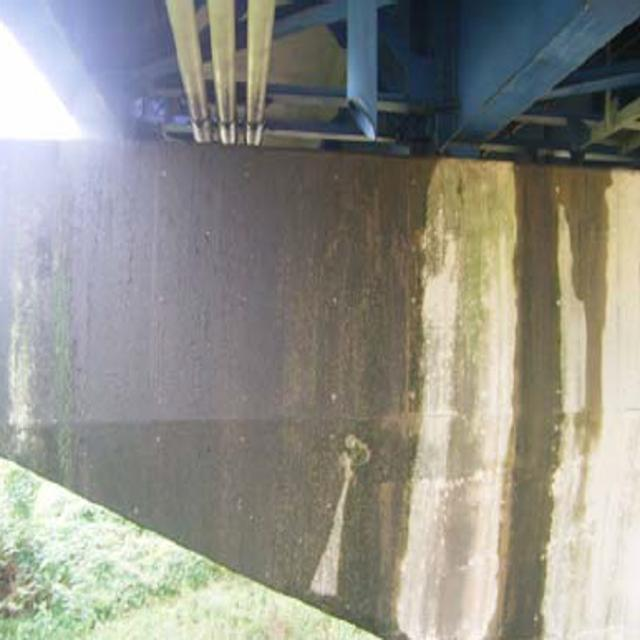leakage: (23, 147, 436, 632), (499, 157, 597, 630)
